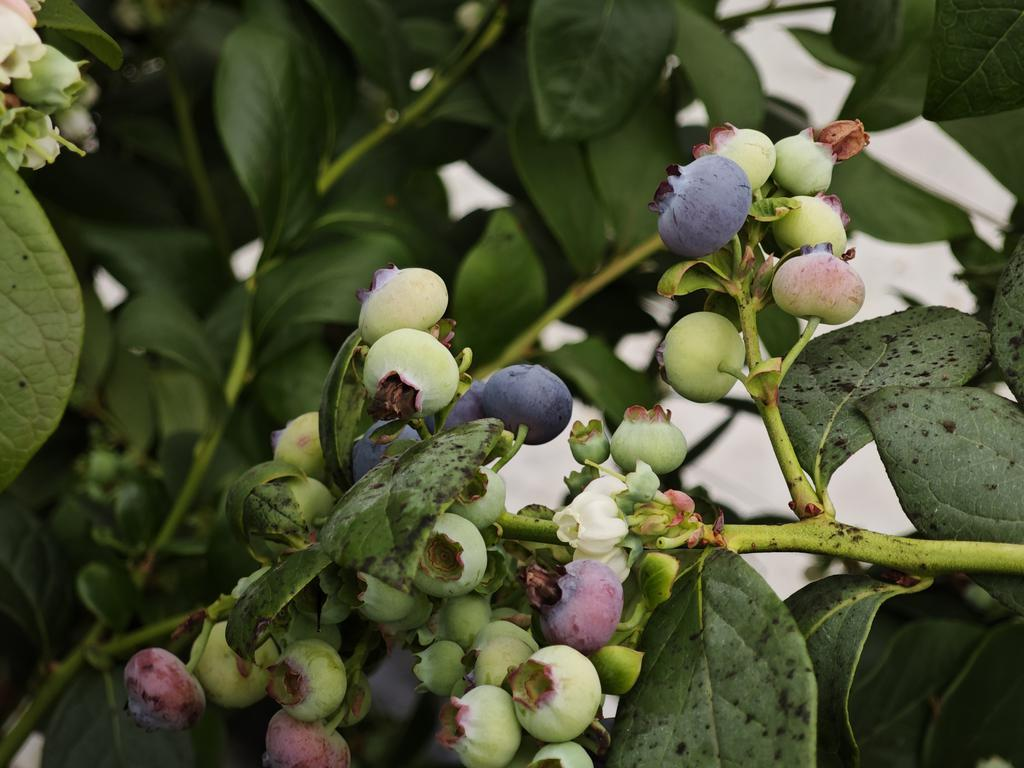RipeBlueBerry: (652, 154, 752, 258), (485, 360, 572, 447)
Semi-RipeBlueBerry: (118, 645, 207, 733), (534, 564, 624, 648), (261, 713, 353, 768)
UnripeBlueBerry: (507, 644, 603, 742), (362, 329, 459, 420), (654, 314, 744, 401), (775, 243, 865, 326)
